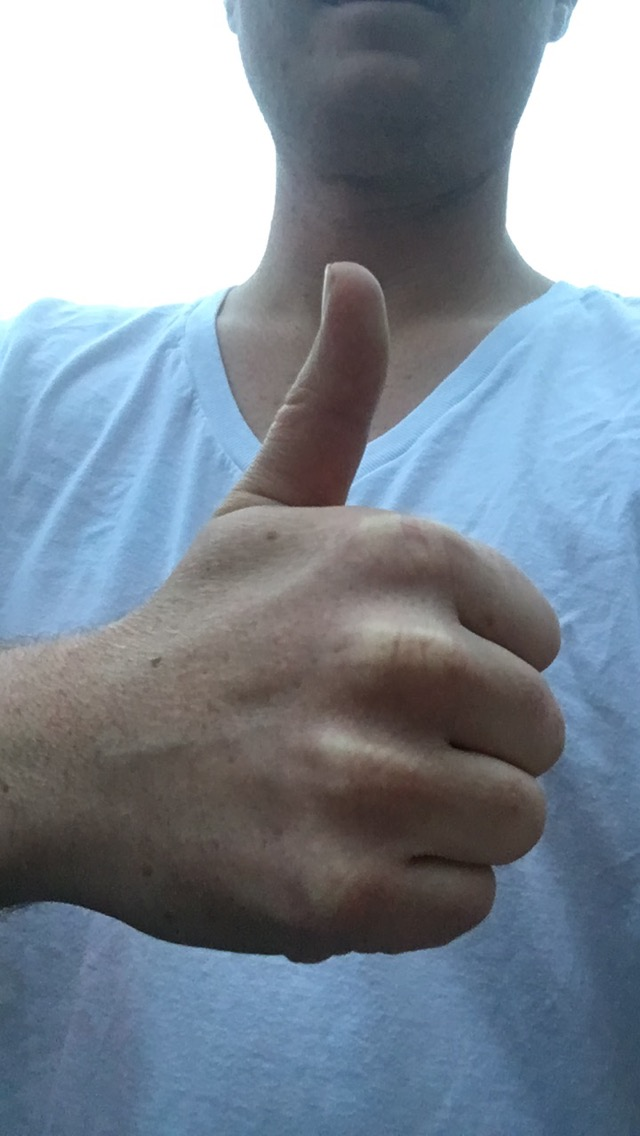defaultd: (69, 263, 568, 960)
